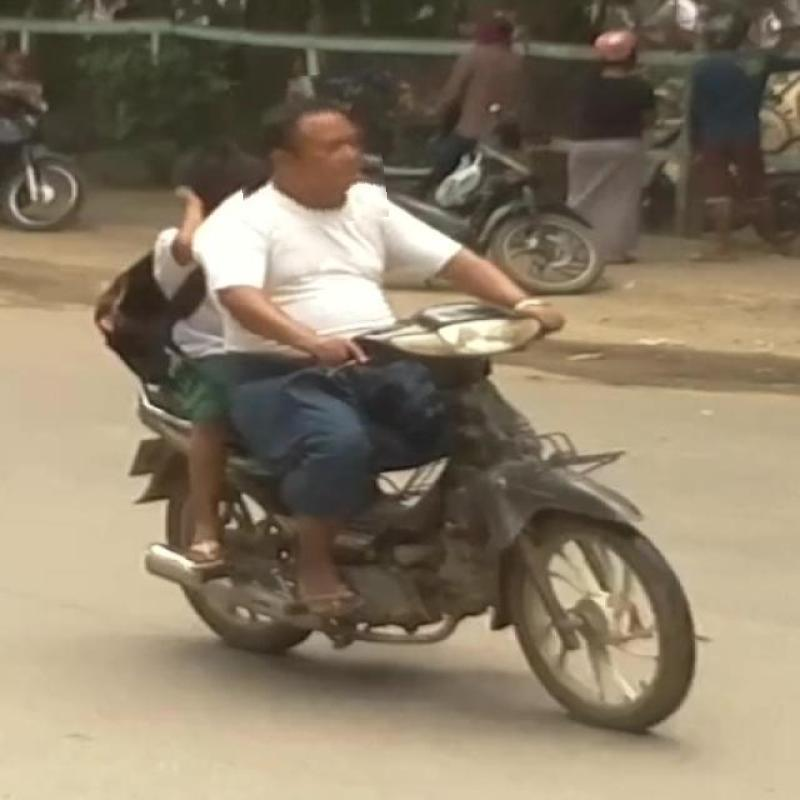nohelmet: (234, 72, 385, 231)
